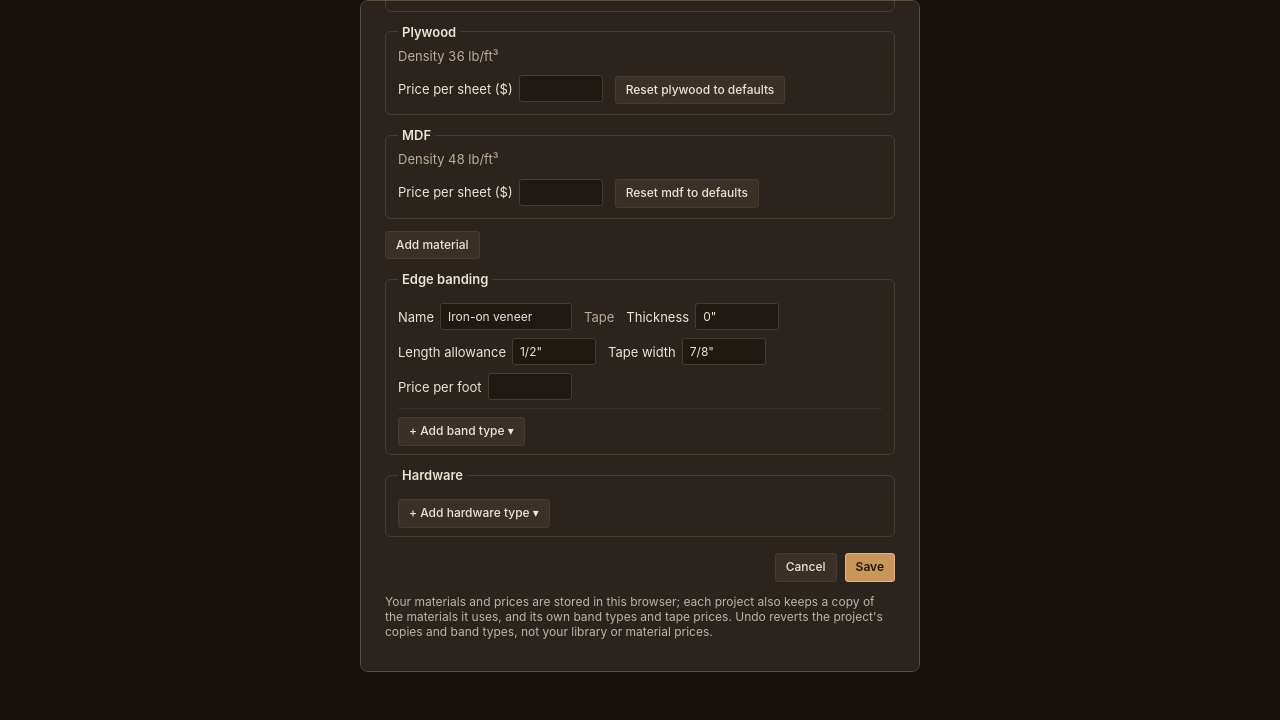
MaterialsDialog — prices › says when stored prices could not be read, and when saving fails
The width and height of the screenshot is (1280, 720).
(page scrolled)
Click the button "Save": (870, 568) top-left (845, 553), bottom-right (895, 582)
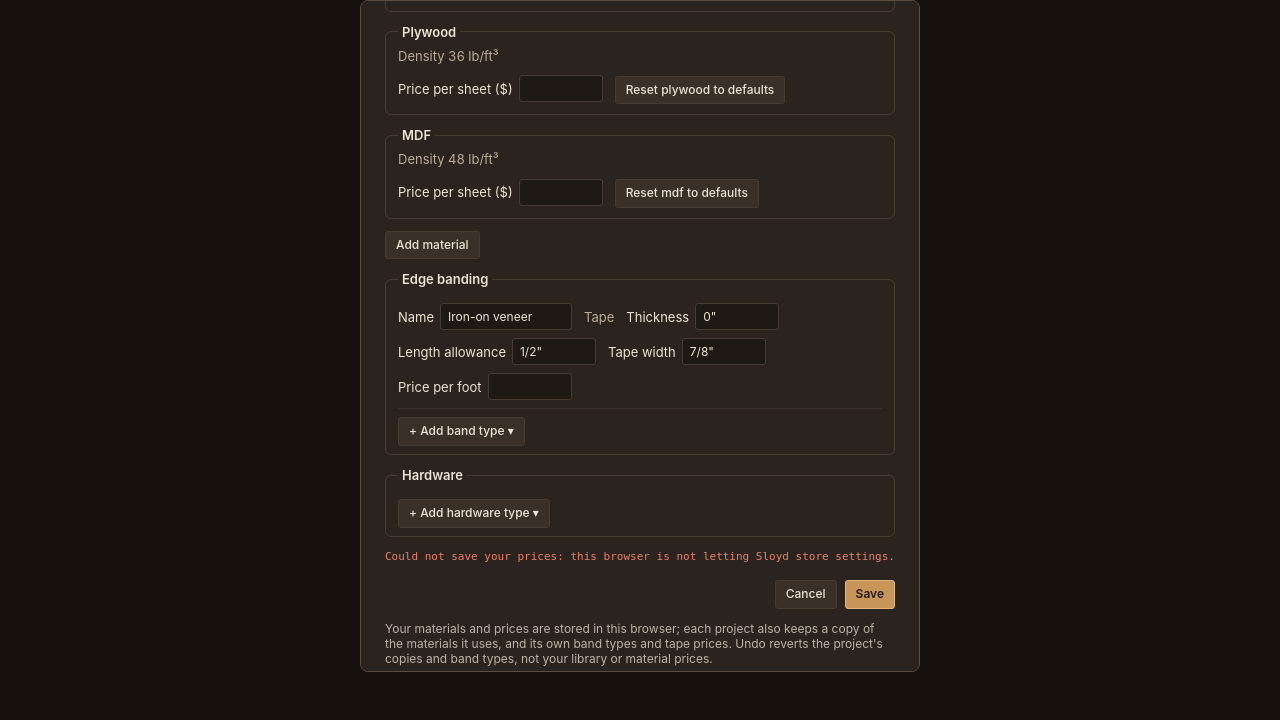
Expected: the text "Could not save your prices: this browser is not letting Sloyd store settings." is shown, top-left (385, 549), bottom-right (895, 564)
